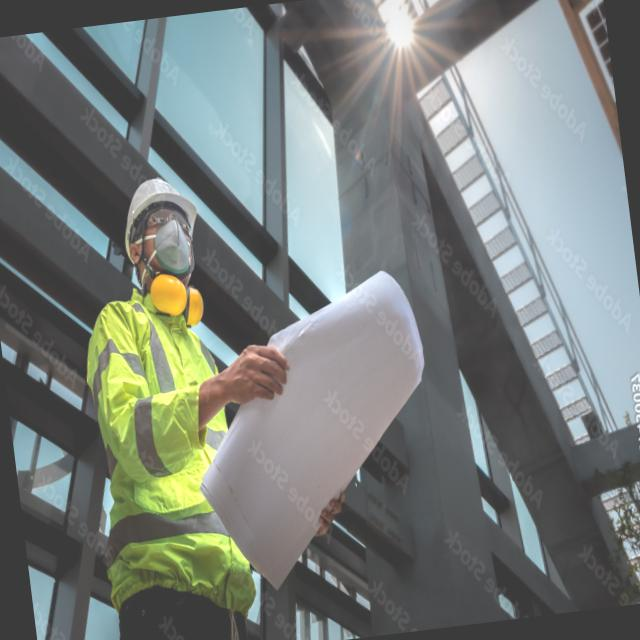goggles: (130, 202, 200, 242)
helmet: (109, 168, 204, 256)
vest: (70, 274, 272, 626)
